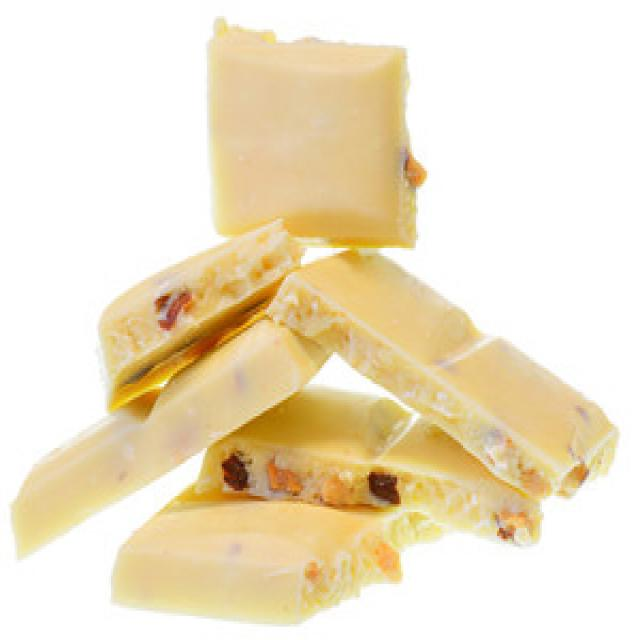Chocolate: (270, 244, 624, 503), (205, 18, 424, 250), (110, 480, 402, 624), (100, 218, 306, 387)
